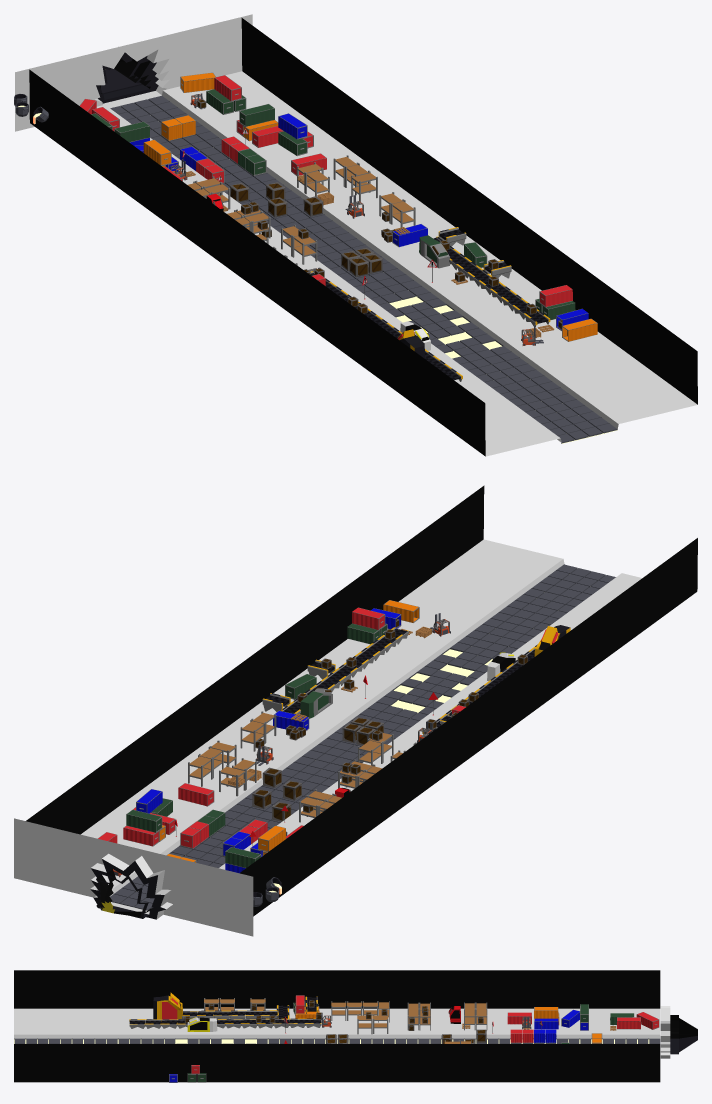
File: xfabrik.fbx
The picture shows the model from 3 angles, top to bottom: view 1: azimuth 30°, elevation 25°; view 2: azimuth 150°, elevation 25°; view 3: azimuth 270°, elevation 25°; orthographic projection. The views are drawn at different scales.
Parts seen in each view (by area): view 1: boden, wand mit loch, genericmachine; view 2: boden, wand mit loch, genericmachine; view 3: boden, wand mit loch, genericmachine.002, genericmachine.004, containerRed.001, containerYellow.003, containerBlue.003, containerRed.006, containerRed.002, containerBlue.004, lagerregal.017, lagerregal.020.
Part boxes in pixels (x1=…): boden: x1=29, y1=18, x2=697, y2=456; wand mit loch: x1=15, y1=14, x2=252, y2=131; genericmachine: x1=419, y1=235, x2=449, y2=268; boden: x1=26, y1=485, x2=697, y2=916; wand mit loch: x1=14, y1=818, x2=253, y2=936; genericmachine: x1=300, y1=688, x2=332, y2=718; boden: x1=14, y1=970, x2=660, y2=1082; wand mit loch: x1=660, y1=1006, x2=697, y2=1058; genericmachine.002: x1=153, y1=992, x2=182, y2=1022; genericmachine.004: x1=187, y1=1017, x2=217, y2=1031; containerRed.001: x1=616, y1=1017, x2=641, y2=1029; containerYellow.003: x1=534, y1=1007, x2=558, y2=1018; containerBlue.003: x1=534, y1=1018, x2=558, y2=1029; containerRed.006: x1=507, y1=1012, x2=531, y2=1024; containerRed.002: x1=636, y1=1012, x2=659, y2=1029; containerBlue.004: x1=561, y1=1009, x2=579, y2=1027; lagerregal.017: x1=373, y1=1014, x2=388, y2=1033; lagerregal.020: x1=331, y1=1001, x2=346, y2=1020.
Size of the model in its own units: 4687 by 1083 by 15703.
